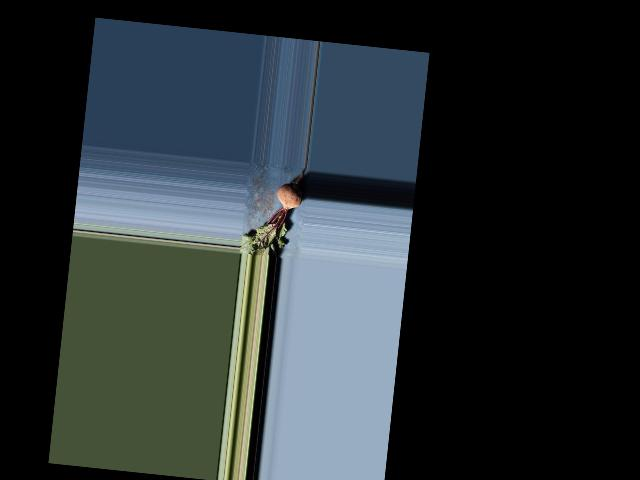beet: (239, 162, 306, 260)
